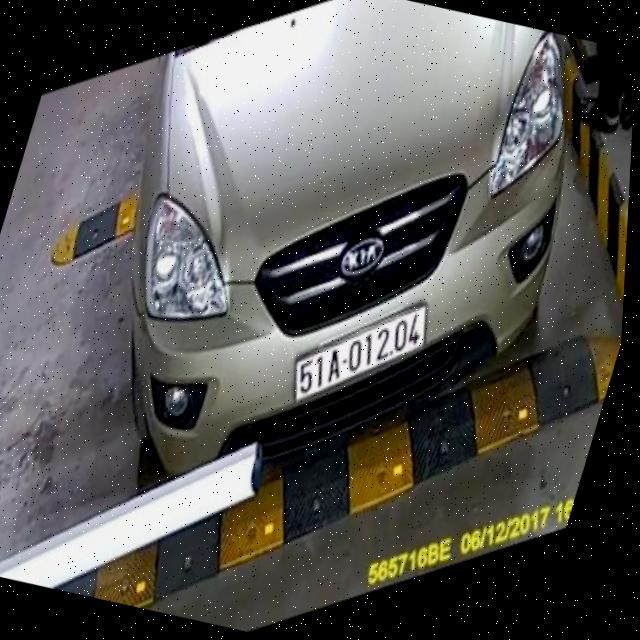car: (33, 0, 640, 567)
plate: (275, 271, 442, 439)
